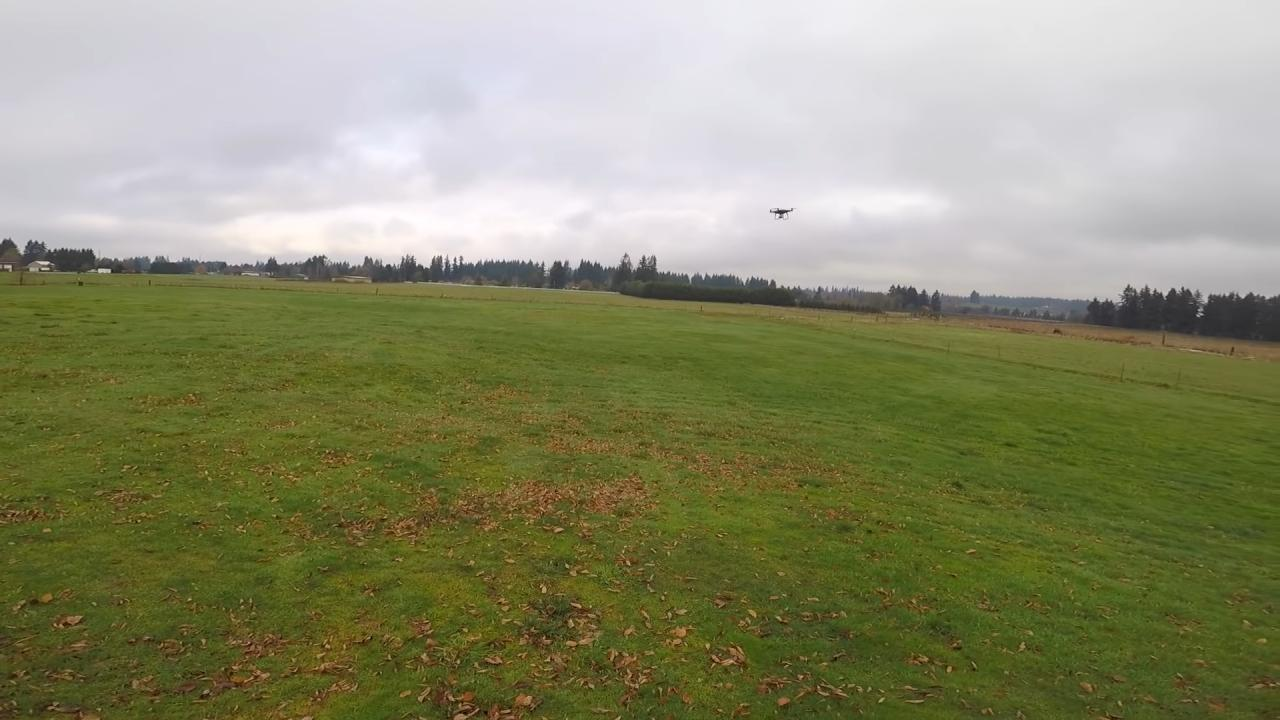Drone: (764, 202, 801, 229)
